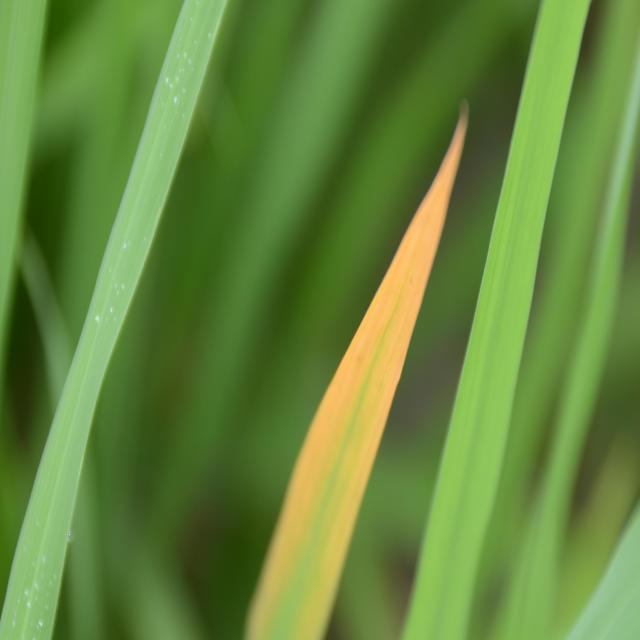Rice Tungro: (235, 112, 469, 636)
